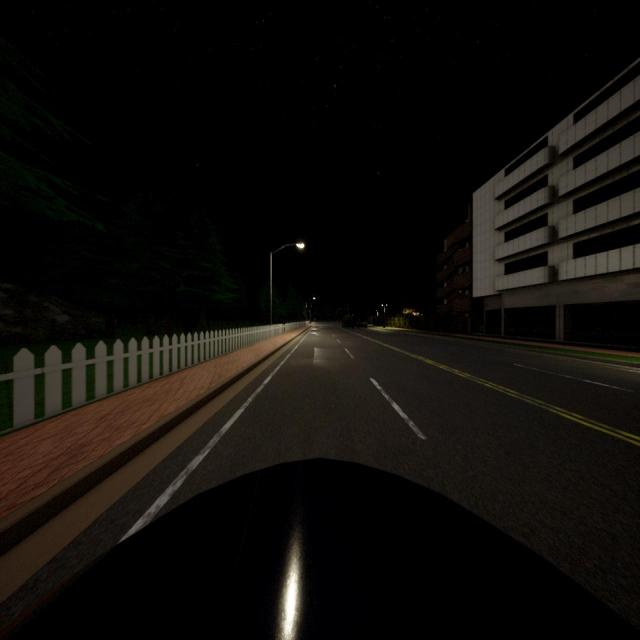Vehicle: (0, 464, 640, 640), (342, 315, 368, 330)
